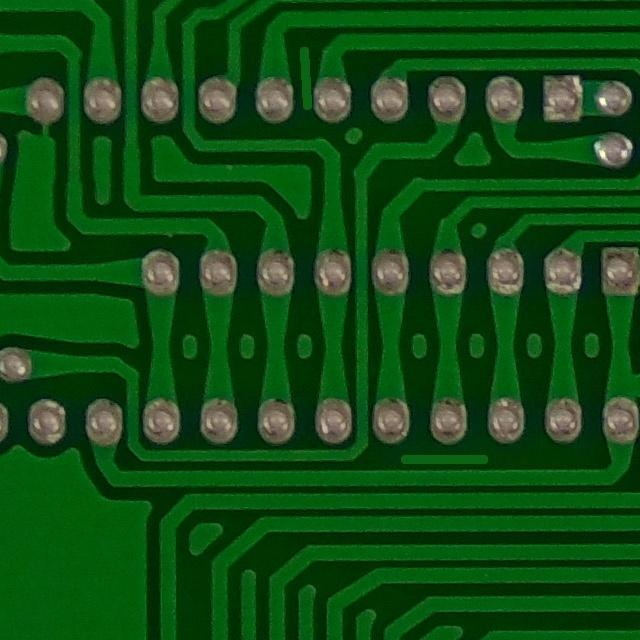spurious_copper: (385, 437, 502, 479), (285, 34, 319, 122)
